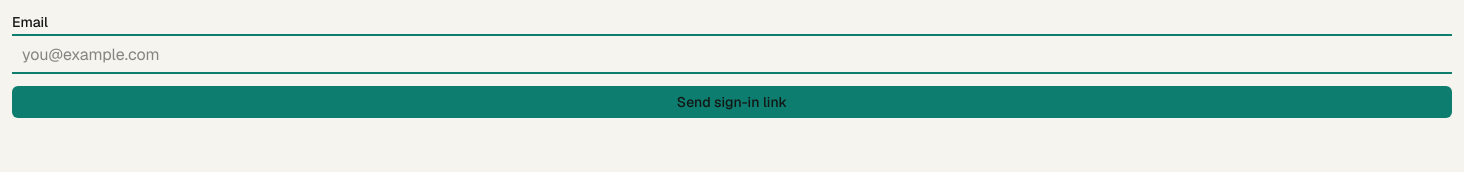
Scenario: AdminSignInForm › has a labelled email field and validates before sending
The image size is (1464, 172).
Click the button "Send sign-in link".
click(732, 102)  # box [12,86,1452,118]
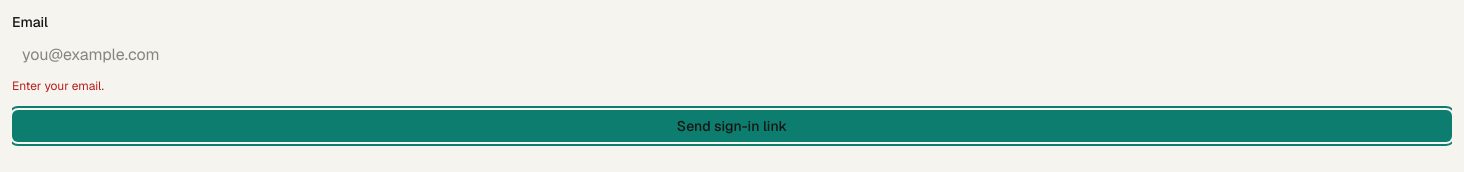
Now the message reads "Enter your email.", box [12,78,104,94]
Type "not-an-email" into the field labelled "Email".
click(732, 54); type("not-an-email")  # box [12,38,1452,70]
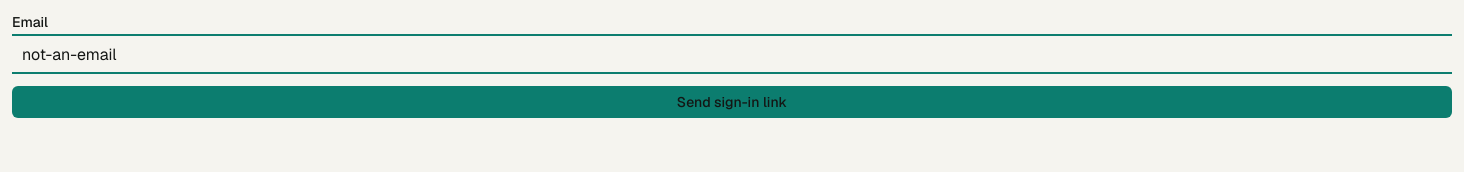
Click the button "Send sign-in link".
click(732, 102)  # box [12,86,1452,118]
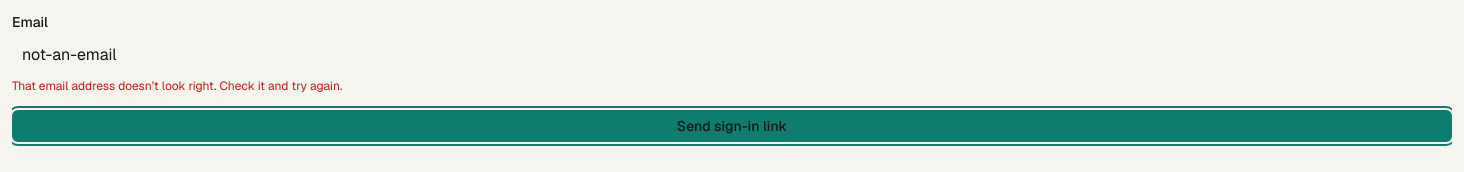
Now the message shows "doesn’t look right", box [12,78,342,94]
